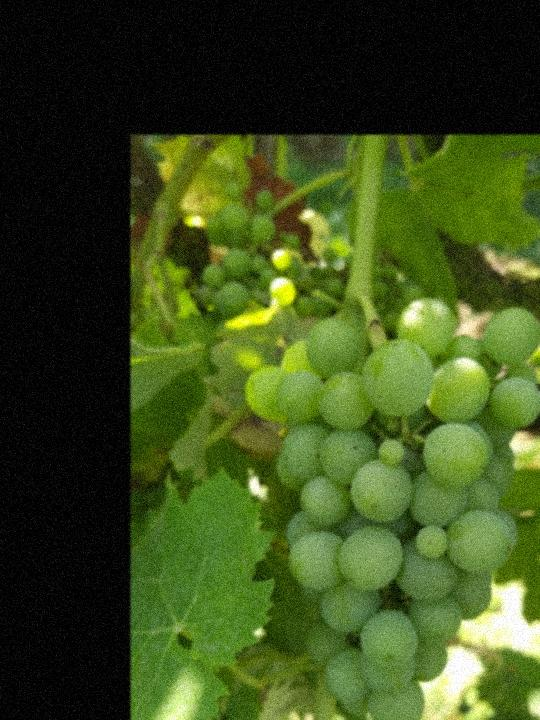grape: (245, 294, 540, 720)
